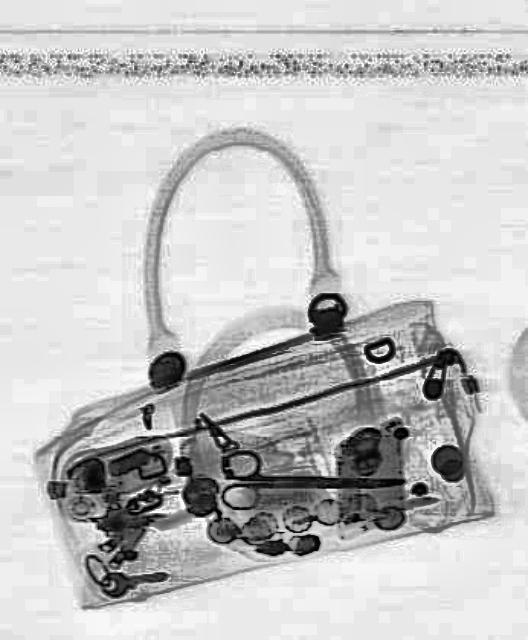Scissors: (218, 447, 402, 513)
